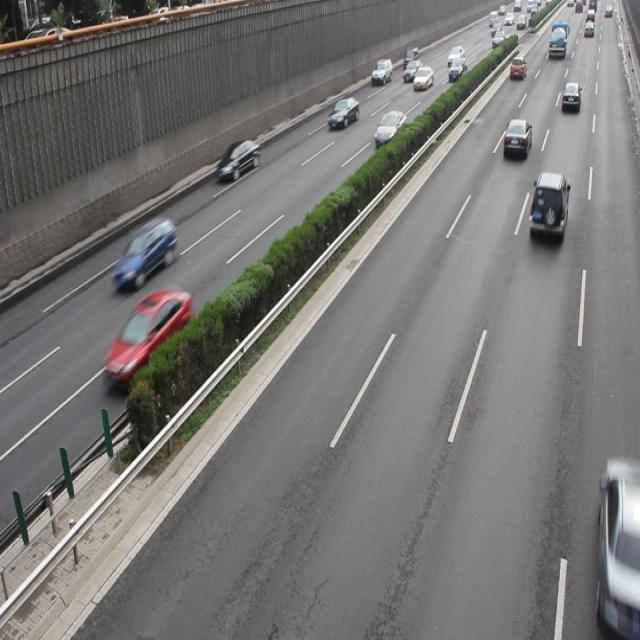car: (102, 287, 192, 387), (594, 457, 640, 630), (111, 215, 176, 290), (528, 171, 568, 236), (215, 136, 259, 182), (501, 117, 531, 160), (372, 108, 404, 146), (327, 96, 359, 129)
